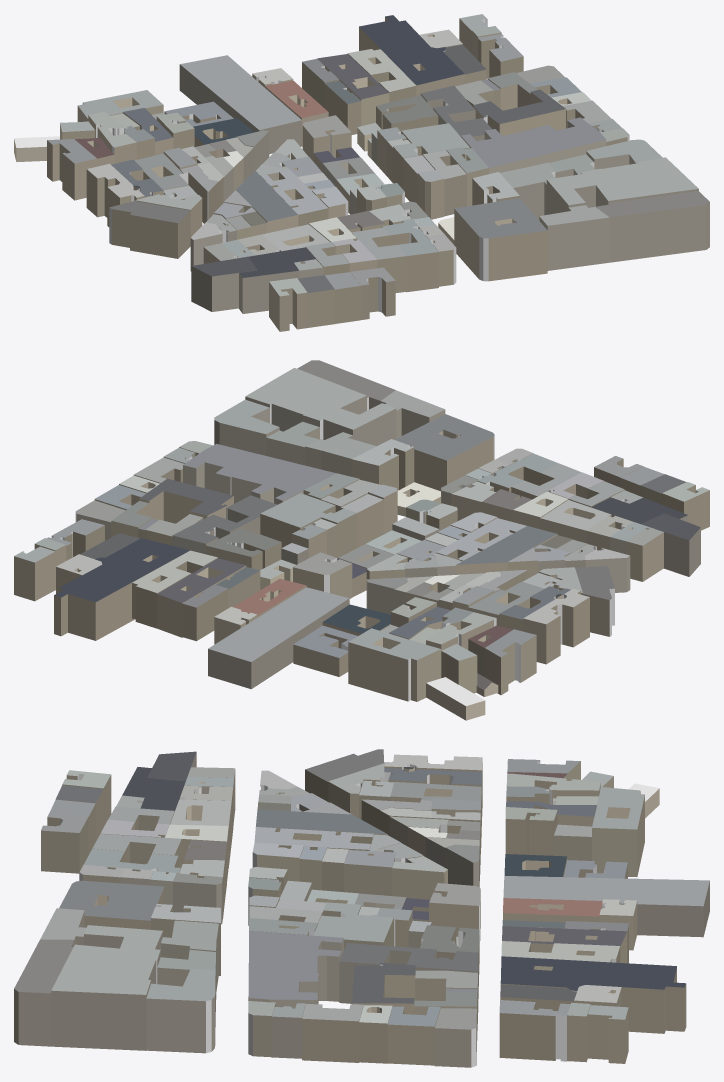
The picture shows the model from 3 angles, top to bottom: view 1: azimuth 30°, elevation 25°; view 2: azimuth 150°, elevation 25°; view 3: azimuth 270°, elevation 25°; orthographic projection. The views are drawn at different scales.
Parts seen in each view (by area): view 1: tuile; view 2: tuile; view 3: tuile.
Part boxes in pixels (bbox=[...]): tuile: bbox=[14, 14, 709, 331]; tuile: bbox=[14, 360, 709, 720]; tuile: bbox=[14, 749, 709, 1067].
Bounding box in the file's own units: 274 × 28.59 × 292.
